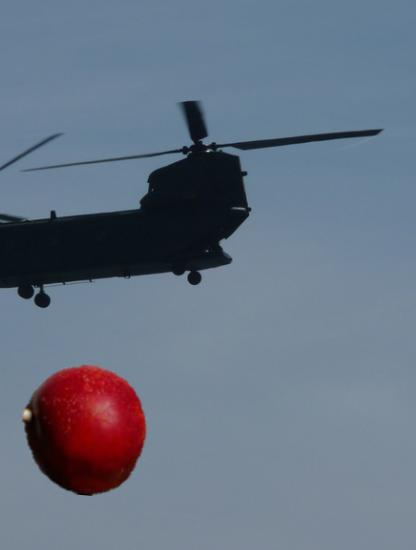Nectarine: (19, 365, 150, 496)
